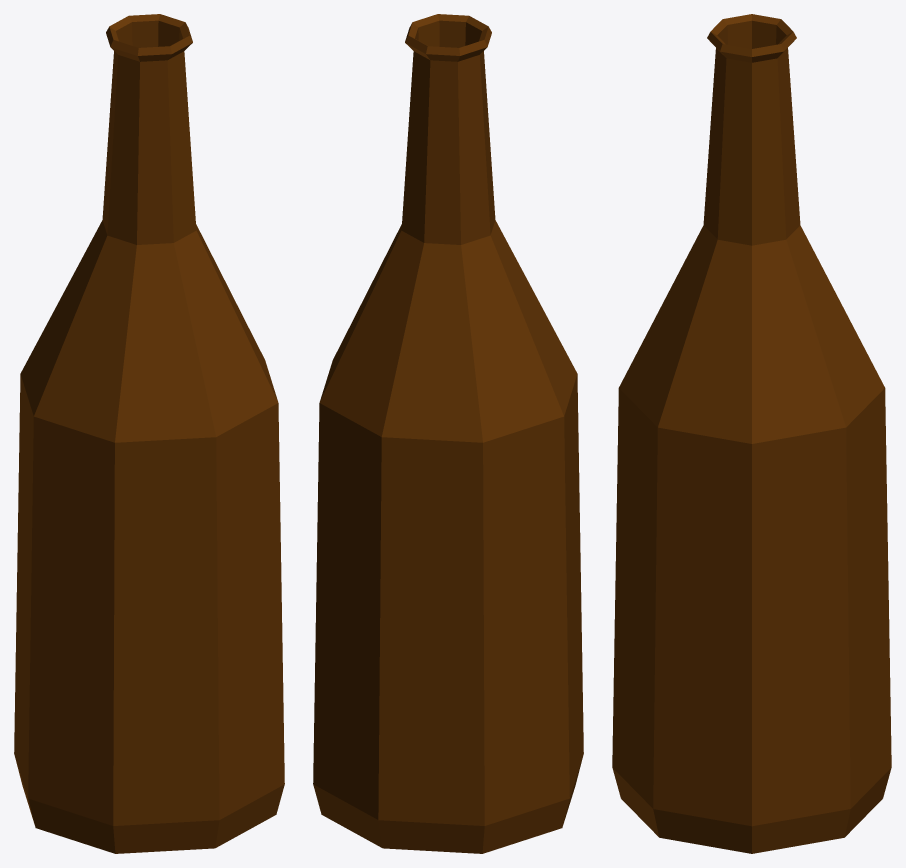
Rendered from LowPoly_GlassBottle01.fbx.
The picture shows the model from 3 angles, left to right: view 1: azimuth 30°, elevation 25°; view 2: azimuth 150°, elevation 25°; view 3: azimuth 270°, elevation 25°; orthographic projection.
Visible parts, largest first — view 1: Bottle; view 2: Bottle; view 3: Bottle.
Part boxes in pixels (x1,y1,x2,y2): Bottle: [14, 14, 284, 853]; Bottle: [313, 14, 583, 853]; Bottle: [612, 14, 891, 853].
Size of the model in its own units: 9.44 by 28.6 by 9.44.
